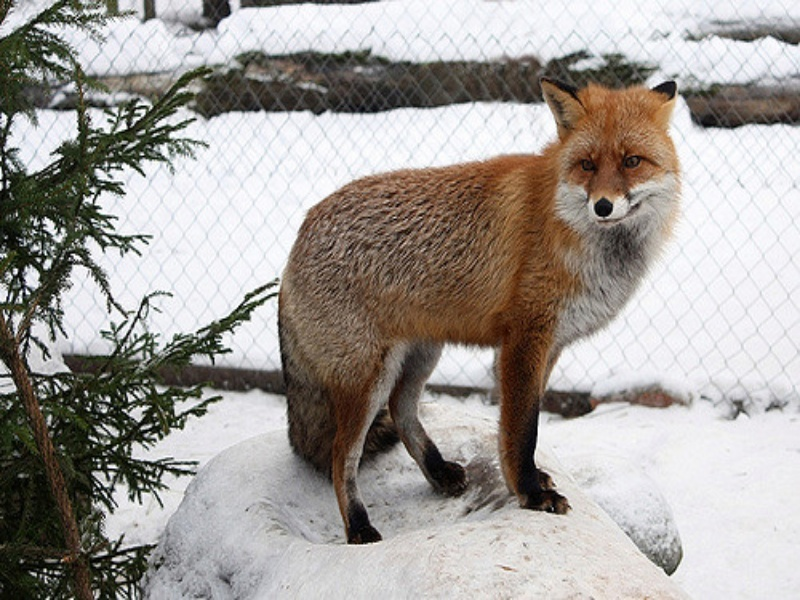fox: (271, 71, 686, 548)
